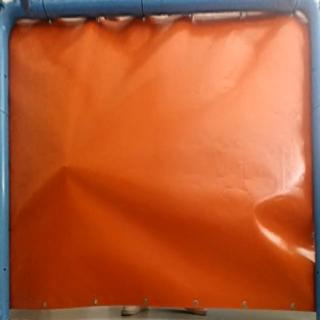Hit-hRxx: (59, 160, 75, 176)
